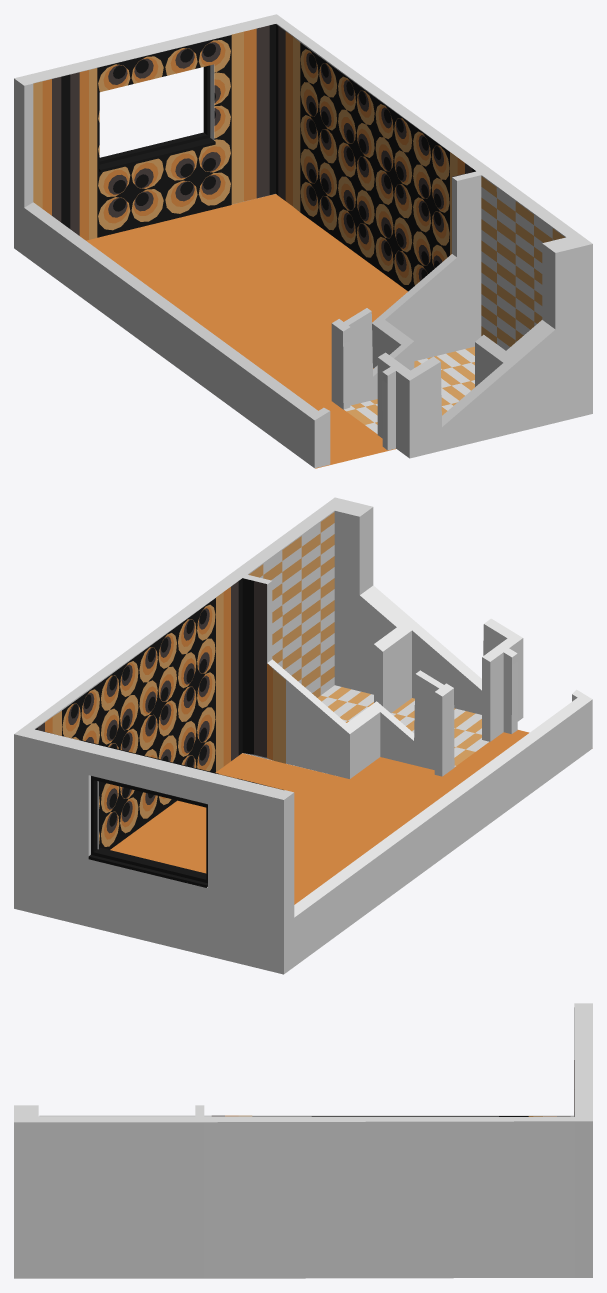
File: SM_Murs01.fbx
3 views of the same model, one above another, from view 1: azimuth 30°, elevation 25°; view 2: azimuth 150°, elevation 25°; view 3: azimuth 270°, elevation 25° (orthographic). The views are drawn at different scales.
Visible parts, largest first — view 1: Murs 01, SM_CadreFentre_Mur01; view 2: Murs 01, SM_CadreFentre_Mur01; view 3: Murs 01.
Boxes of the visible parts, box(x1,y1,x2,y2) form: Murs 01: box(14, 14, 592, 468); SM_CadreFentre_Mur01: box(99, 65, 215, 172); Murs 01: box(14, 497, 592, 974); SM_CadreFentre_Mur01: box(88, 776, 207, 887); Murs 01: box(14, 1003, 592, 1278).
Bounding box in the file's own units: 838 × 407 × 254.
